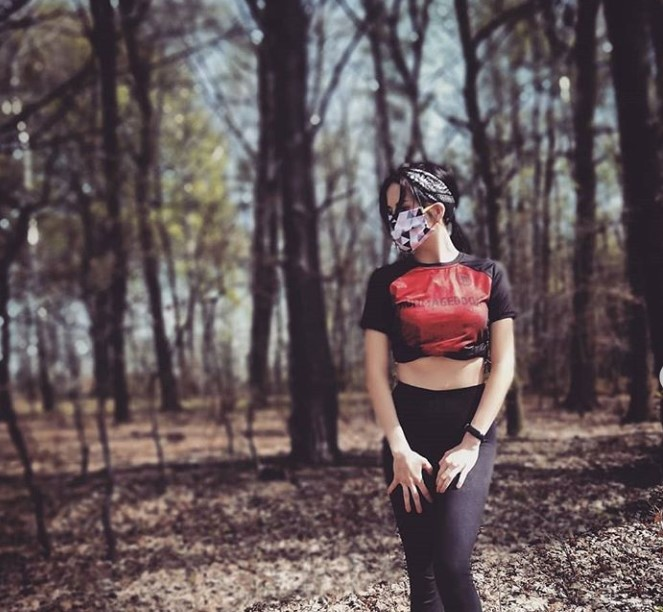face_with_mask: (380, 164, 456, 255)
